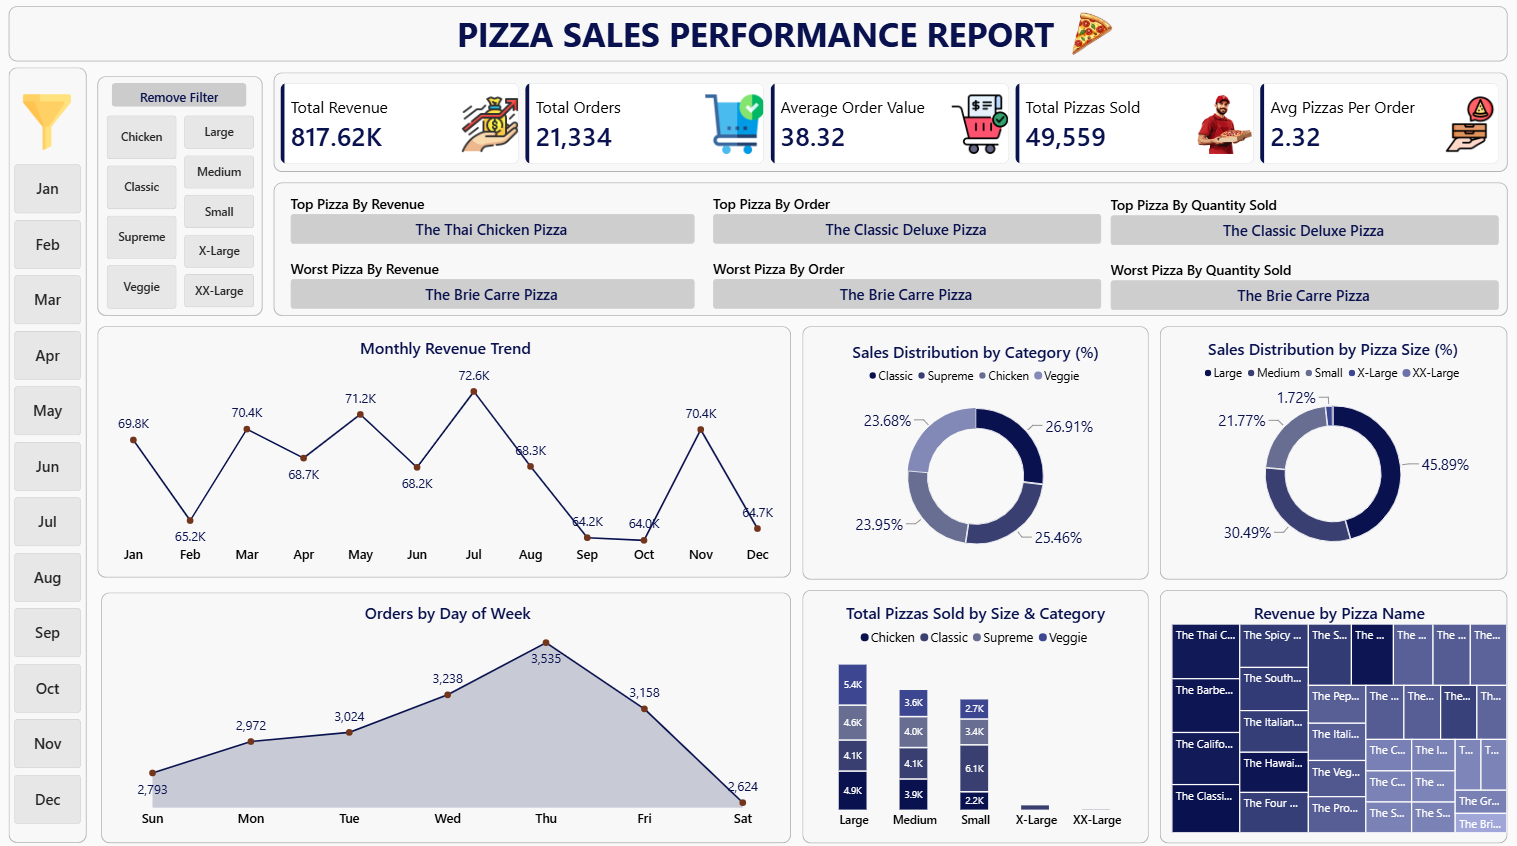

This screenshot's page, from the dashboard's own definition file:
{"tool":"powerbi","page":{"name":"DASHBOARD","canvas":[1920,1080],"ordinal":0},"visuals":[{"type":"shape","box":[12.9,10,1892.9,71.4],"z":0,"group":"g1"},{"type":"group","id":"g1","title":"Group 1","box":[12.9,10,1892.9,1058.6],"z":0},{"type":"advancedSlicerVisual","title":"Top Pizza By Revenue","fields":{"Values":["PIZZA SALES.pizza_name"]},"box":[368.6,247.6,510,62.9],"z":0,"group":"g2"},{"type":"shape","box":[13.2,88,100,980],"z":1000,"group":"g1"},{"type":"cardVisual","fields":{"Data":["PIZZA SALES.Total Revenue","PIZZA SALES.Total Orders","PIZZA SALES.Average Order Value","PIZZA SALES.Total Pizzas Sold","PIZZA SALES.Avg Pizzas Per Order"]},"box":[357.1,107.1,1537.1,102.9],"z":1000},{"type":"advancedSlicerVisual","title":"Worst Pizza By Revenue","fields":{"Values":["PIZZA SALES.pizza_name"]},"box":[368.6,329,510,62.9],"z":1000,"group":"g2"},{"type":"shape","box":[125.2,98,210,304],"z":2000,"group":"g1"},{"type":"lineChart","title":"Monthly Revenue Trend","fields":{"Category":["PIZZA SALES.Month Name"],"Y":["PIZZA SALES.Total Revenue"]},"box":[125.6,413.3,876.7,322.2],"z":2000},{"type":"shape","box":[124.2,413.3,876.7,318.9],"z":3000,"group":"g1"},{"type":"lineChart","title":"Orders by Day of Week","fields":{"Category":["PIZZA SALES.Day Name"],"Y":["PIZZA SALES.Total Orders"]},"box":[130,748,876,320],"z":3000},{"type":"donutChart","title":"Sales Distribution by Category (%)","fields":{"Category":["PIZZA SALES.pizza_category"],"Y":["PIZZA SALES.Total Revenue"]},"box":[1014.3,418.6,438.6,314.3],"z":4000},{"type":"shape","box":[129.2,750,872,318],"z":4000,"group":"g1"},{"type":"shape","box":[1014.3,414.3,438.6,321.4],"z":5000,"group":"g1"},{"type":"donutChart","title":"Sales Distribution by Pizza Size (%)","fields":{"Category":["PIZZA SALES.pizza_size"],"Y":["PIZZA SALES.Total Revenue"]},"box":[1465.7,414.3,438.6,314.3],"z":5000},{"type":"shape","box":[1465.8,414.3,440,321.4],"z":6000,"group":"g1"},{"type":"columnChart","title":"Total Pizzas Sold by Size & Category","fields":{"Category":["PIZZA SALES.pizza_size"],"Series":["PIZZA SALES.pizza_category"],"Y":["PIZZA SALES.Total Pizzas Sold"]},"box":[1014.3,747.1,438.6,321.4],"z":6000},{"type":"shape","box":[347.2,92.9,1558.6,127.1],"z":7000,"group":"g1"},{"type":"treemap","title":"Revenue by Pizza Name","fields":{"Group":["PIZZA SALES.pizza_name"],"Values":["PIZZA SALES.Total Revenue"]},"box":[1465.7,747.1,454.3,321.4],"z":7000},{"type":"shape","box":[347.2,232.9,1558.6,170],"z":8000,"group":"g1"},{"type":"advancedSlicerVisual","title":"Top Pizza By Order","fields":{"Values":["PIZZA SALES.pizza_name"]},"box":[902.9,247.8,490,62.9],"z":8000},{"type":"advancedSlicerVisual","title":"Worst Pizza By Order","fields":{"Values":["PIZZA SALES.pizza_name"]},"box":[902.9,329.2,490,62.9],"z":9000},{"type":"shape","box":[1014.3,747.1,438.6,321.4],"z":9000,"group":"g1"},{"type":"group","id":"g2","title":"Group 3","box":[368.6,247.6,510,144.3],"z":10000},{"type":"shape","box":[1465.8,747.1,440,321.4],"z":10000,"group":"g1"},{"type":"advancedSlicerVisual","title":"Top Pizza By Quantity Sold","fields":{"Values":["PIZZA SALES.pizza_name"]},"box":[1404.3,249,490,62.9],"z":11000},{"type":"advancedSlicerVisual","title":"Worst Pizza By Quantity Sold","fields":{"Values":["PIZZA SALES.pizza_name"]},"box":[1404.3,330.4,490,62.9],"z":12000},{"type":"advancedSlicerVisual","fields":{"Values":["PIZZA SALES.Month Name"]},"box":[21,210,84,842],"z":13000},{"type":"advancedSlicerVisual","fields":{"Values":["PIZZA SALES.pizza_category"]},"box":[136.5,147.5,88.5,246],"z":14000},{"type":"advancedSlicerVisual","fields":{"Values":["PIZZA SALES.pizza_size"]},"box":[235.5,147.5,88.5,246],"z":15000},{"type":"actionButton","box":[144.3,107.1,170,30],"z":15001},{"type":"image","box":[17.1,121.4,88.6,70],"z":15002},{"type":"textbox","box":[10,8,1892.9,71.4],"z":15003},{"type":"image","box":[1327.1,14.3,101.4,62.9],"z":15004},{"type":"textbox","box":[105.7,21.4,184.3,47.1],"z":15006}]}

Visuals, with their boxes in screenshot pixels (x1, y1, x2, y2), scaled from the page's 1920x1080 canvas onto the 1517x846 screenshot:
shape: <bbox>10, 8, 1506, 64</bbox>
"Group 1" group: <bbox>10, 8, 1506, 837</bbox>
"Top Pizza By Revenue" advancedSlicerVisual: <bbox>291, 194, 694, 243</bbox>
shape: <bbox>10, 69, 89, 837</bbox>
cardVisual - PIZZA SALES.Total Revenue x PIZZA SALES.Total Orders: <bbox>282, 84, 1497, 164</bbox>
"Worst Pizza By Revenue" advancedSlicerVisual: <bbox>291, 258, 694, 307</bbox>
shape: <bbox>99, 77, 265, 315</bbox>
"Monthly Revenue Trend" lineChart: <bbox>99, 324, 792, 576</bbox>
shape: <bbox>98, 324, 791, 574</bbox>
"Orders by Day of Week" lineChart: <bbox>103, 586, 795, 837</bbox>
"Sales Distribution by Category (%)" donutChart: <bbox>801, 328, 1148, 574</bbox>
shape: <bbox>102, 588, 791, 837</bbox>
shape: <bbox>801, 325, 1148, 576</bbox>
"Sales Distribution by Pizza Size (%)" donutChart: <bbox>1158, 325, 1505, 571</bbox>
shape: <bbox>1158, 325, 1506, 576</bbox>
"Total Pizzas Sold by Size & Category" columnChart: <bbox>801, 585, 1148, 837</bbox>
shape: <bbox>274, 73, 1506, 172</bbox>
"Revenue by Pizza Name" treemap: <bbox>1158, 585, 1516, 837</bbox>
shape: <bbox>274, 182, 1506, 316</bbox>
"Top Pizza By Order" advancedSlicerVisual: <bbox>713, 194, 1101, 243</bbox>
"Worst Pizza By Order" advancedSlicerVisual: <bbox>713, 258, 1101, 307</bbox>
shape: <bbox>801, 585, 1148, 837</bbox>
"Group 3" group: <bbox>291, 194, 694, 307</bbox>
shape: <bbox>1158, 585, 1506, 837</bbox>
"Top Pizza By Quantity Sold" advancedSlicerVisual: <bbox>1110, 195, 1497, 244</bbox>
"Worst Pizza By Quantity Sold" advancedSlicerVisual: <bbox>1110, 259, 1497, 308</bbox>
advancedSlicerVisual - PIZZA SALES.Month Name: <bbox>17, 164, 83, 824</bbox>
advancedSlicerVisual - PIZZA SALES.pizza_category: <bbox>108, 116, 178, 308</bbox>
advancedSlicerVisual - PIZZA SALES.pizza_size: <bbox>186, 116, 256, 308</bbox>
actionButton: <bbox>114, 84, 248, 107</bbox>
image: <bbox>14, 95, 84, 150</bbox>
textbox: <bbox>8, 6, 1503, 62</bbox>
image: <bbox>1049, 11, 1129, 60</bbox>
textbox: <bbox>84, 17, 229, 54</bbox>
